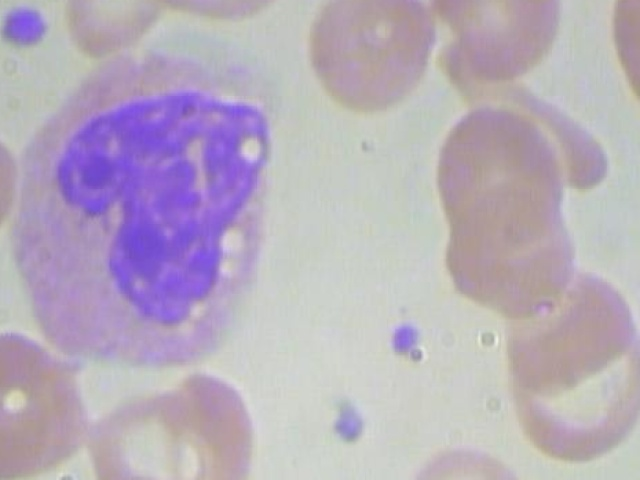Platelets: (0, 0, 57, 56), (319, 397, 371, 454), (377, 317, 430, 364)
RBC: (499, 313, 640, 466), (435, 173, 584, 315), (428, 103, 577, 245), (150, 361, 281, 480), (305, 0, 438, 115), (0, 319, 91, 480), (421, 0, 570, 81), (392, 419, 541, 480), (49, 0, 181, 59), (594, 0, 640, 147), (132, 0, 303, 27)
WBC: (0, 47, 298, 386)
